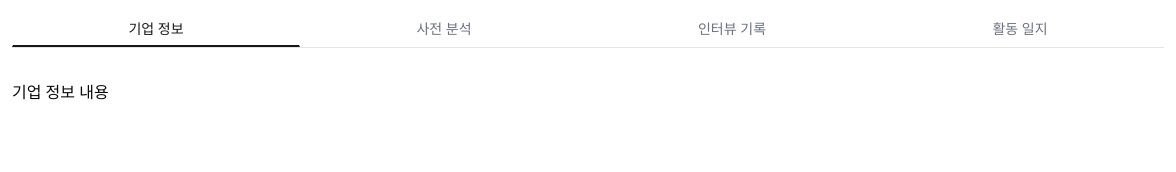
Test case: ProjectDetailTabs › 탭 전환 › "인터뷰 기록" 탭 클릭 시 해당 내용이 표시된다
The width and height of the screenshot is (1176, 172).
Click the tab "인터뷰 기록" at (732, 30), box [588,12,876,46]
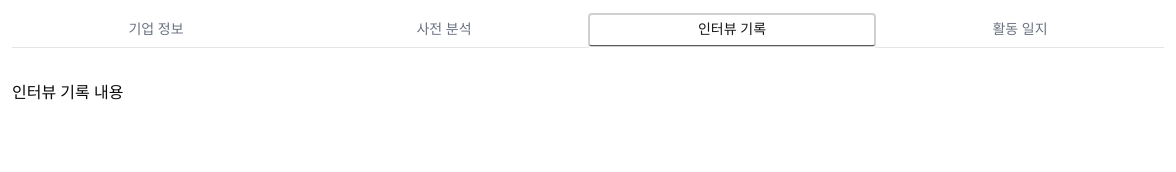
Expected: the text "인터뷰 기록 내용" is shown, [12,81,123,103]
